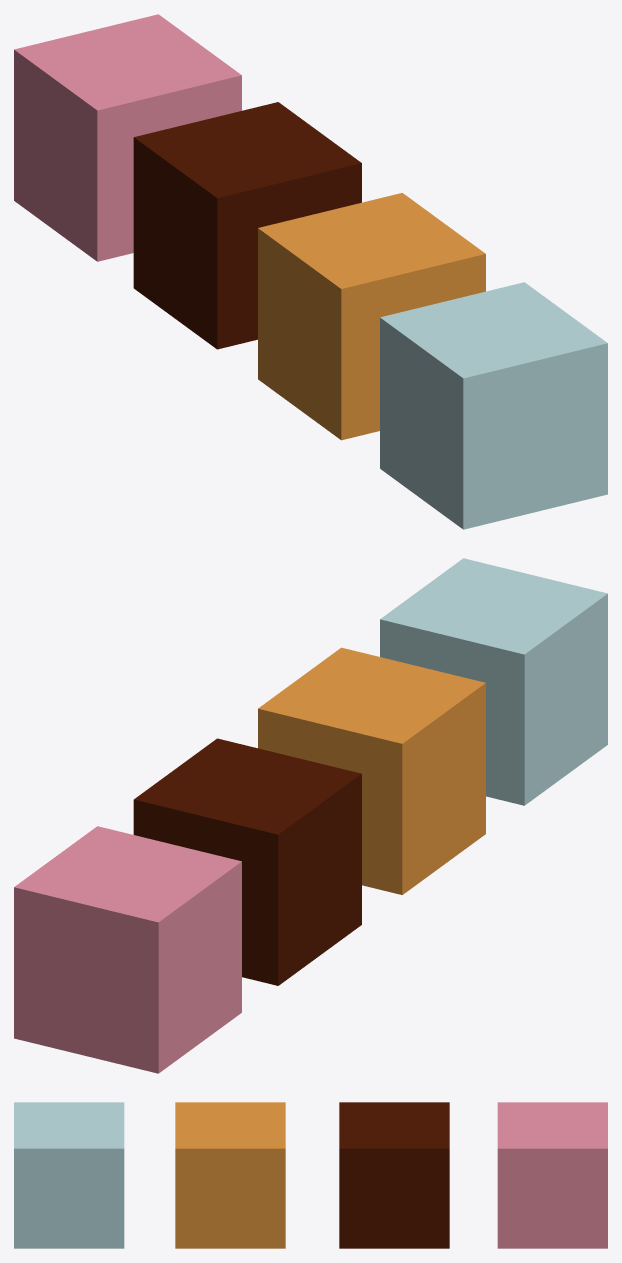
The model's file is Q2_materials_V1.fbx.
The picture shows the model from 3 angles, top to bottom: view 1: azimuth 30°, elevation 25°; view 2: azimuth 150°, elevation 25°; view 3: azimuth 270°, elevation 25°; orthographic projection. The views are drawn at different scales.
Visible parts, largest first — view 1: Cube.005, Cube.002, Cube.004, Cube.003; view 2: Cube.003, Cube.004, Cube.005, Cube.002; view 3: Cube.002, Cube.003, Cube.004, Cube.005.
Boxes of the visible parts, left/top/right/bottom form: Cube.005: left=380, top=282, right=607, bottom=529; Cube.002: left=133, top=102, right=361, bottom=349; Cube.004: left=258, top=193, right=485, bottom=440; Cube.003: left=14, top=14, right=241, bottom=261; Cube.003: left=14, top=826, right=241, bottom=1073; Cube.004: left=258, top=647, right=485, bottom=894; Cube.005: left=380, top=558, right=607, bottom=805; Cube.002: left=133, top=738, right=361, bottom=985; Cube.002: left=339, top=1102, right=449, bottom=1248; Cube.003: left=497, top=1102, right=607, bottom=1248; Cube.004: left=175, top=1102, right=285, bottom=1248; Cube.005: left=14, top=1102, right=124, bottom=1248.
Bounding box in the file's own units: 30 × 30 × 162.
